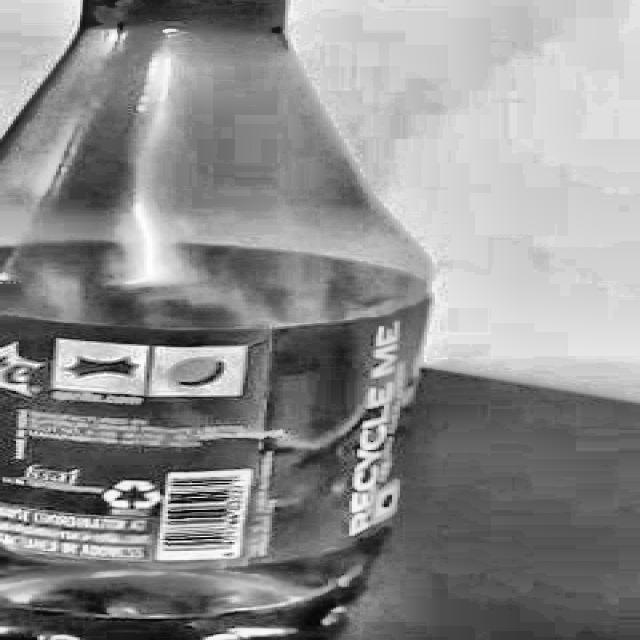bottle: (0, 0, 435, 640)
